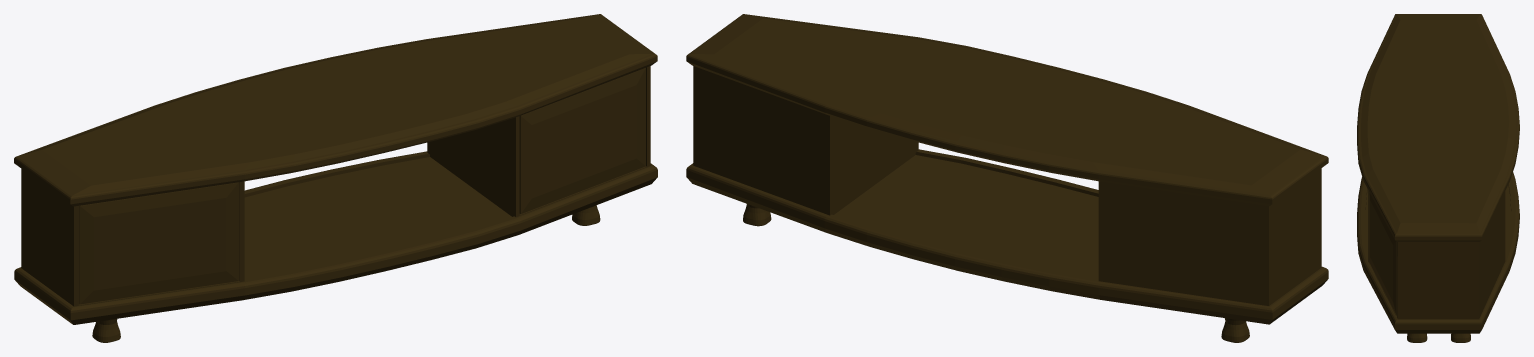
The model's file is tumba.fbx.
The picture shows the model from 3 angles, left to right: view 1: azimuth 30°, elevation 25°; view 2: azimuth 150°, elevation 25°; view 3: azimuth 270°, elevation 25°; orthographic projection. The views are drawn at different scales.
Visible parts, largest first — view 1: Cube.001; view 2: Cube.001; view 3: Cube.001.
Boxes of the visible parts, x1,y1,x2,y2 form: Cube.001: (14, 14, 657, 342); Cube.001: (686, 14, 1328, 342); Cube.001: (1357, 14, 1519, 342).
Size of the model in its own units: 815 by 220 by 253.
